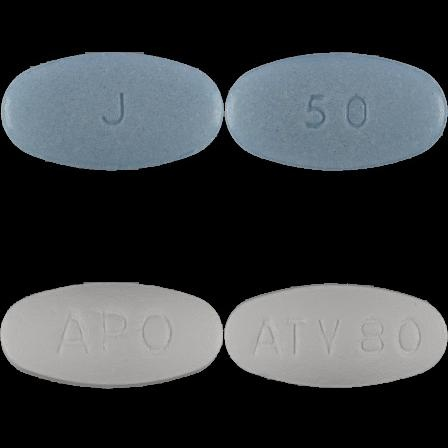61919-530: (0, 0, 224, 224)
